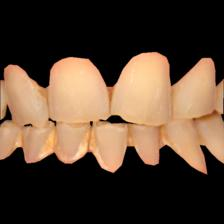cavity: (34, 86, 54, 104), (44, 134, 61, 152), (158, 125, 170, 146), (195, 112, 219, 122), (126, 125, 137, 146), (87, 128, 97, 151), (107, 85, 116, 106), (17, 130, 26, 149)
tooth: (116, 51, 173, 125), (48, 58, 109, 122), (2, 64, 51, 125), (177, 52, 214, 120), (166, 120, 209, 175), (91, 123, 130, 174), (55, 123, 90, 165), (133, 124, 164, 166), (21, 126, 55, 162), (209, 118, 224, 166), (1, 120, 17, 161)
